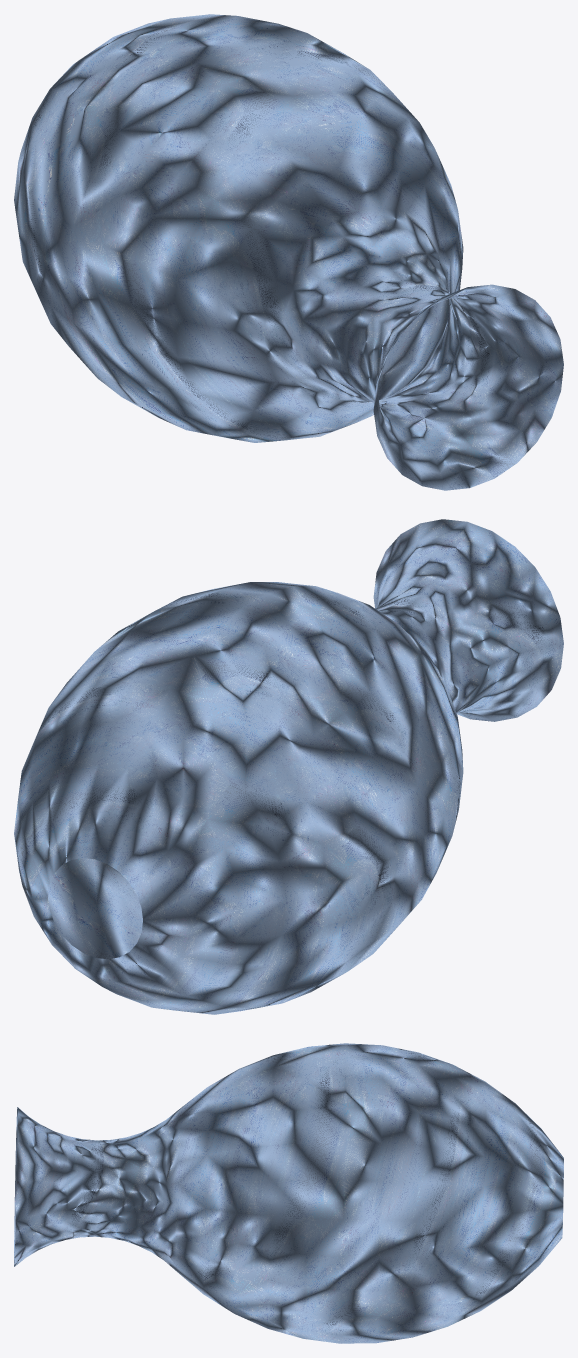
Rendered from model_align.obj.
3 renders of one model, top to bottom at view 1: azimuth 30°, elevation 25°; view 2: azimuth 150°, elevation 25°; view 3: azimuth 270°, elevation 25°, orthographic. The views are drawn at different scales.
Size of the model in its own units: 0.0718 by 0.0718 by 0.131.
1 material, 1 textured.
